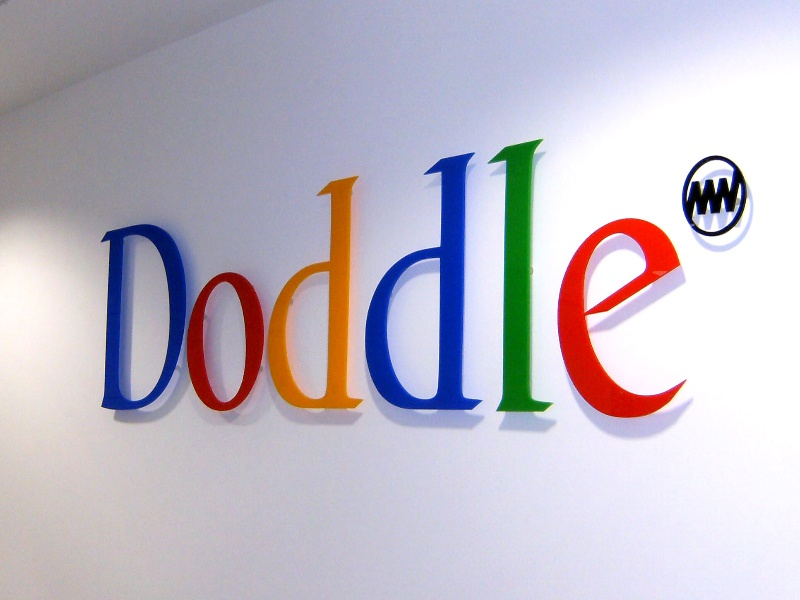letters: (365, 153, 487, 411), (551, 219, 699, 421), (266, 168, 367, 415), (80, 221, 186, 425), (489, 137, 559, 417), (189, 271, 271, 422)
